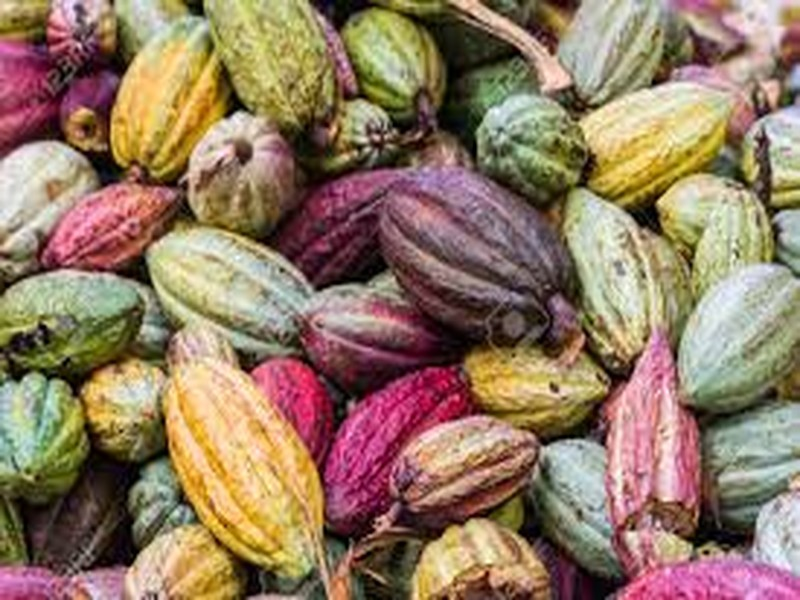Cacaopod: (377, 168, 587, 348), (158, 358, 329, 574)
